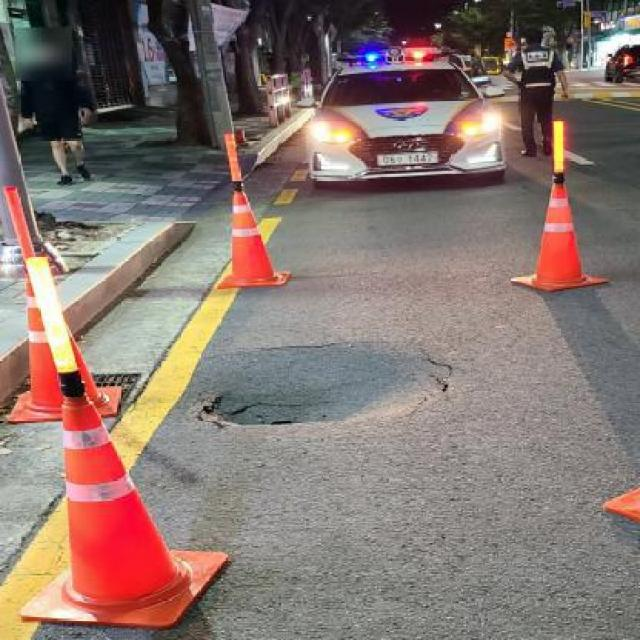Pothole: (187, 348, 467, 432)
